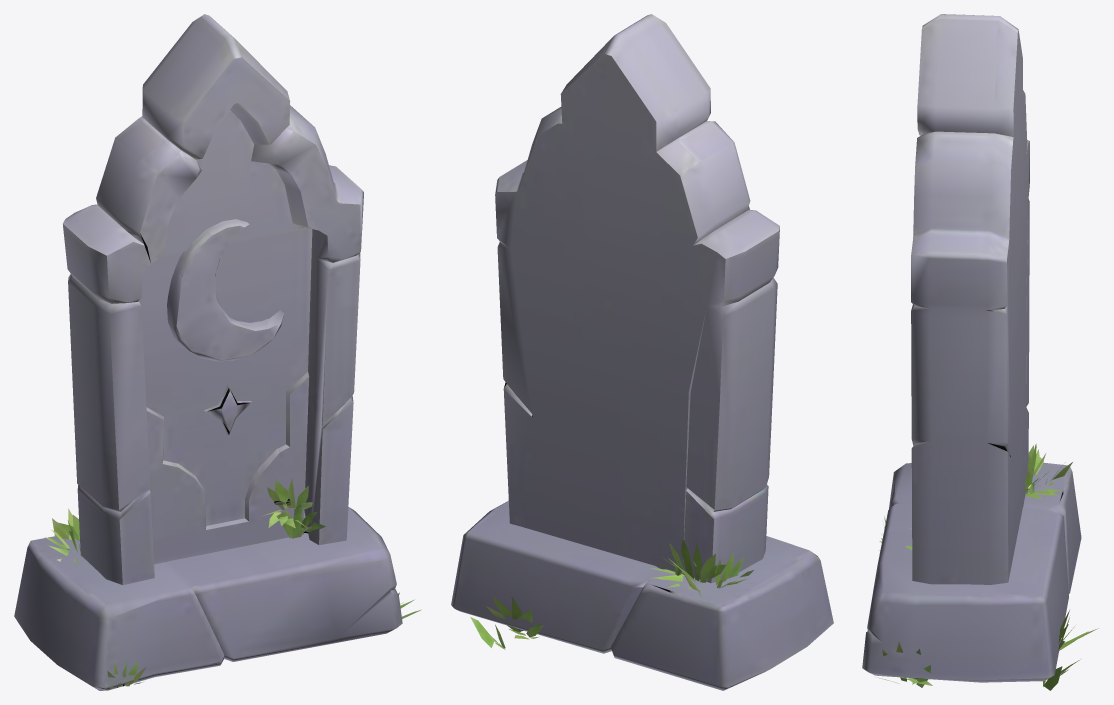
Rendered from kit-gravestone.lod.glb.
The picture shows the model from 3 angles, left to right: view 1: azimuth 30°, elevation 25°; view 2: azimuth 150°, elevation 25°; view 3: azimuth 270°, elevation 25°; orthographic projection.
Parts seen in each view (by area): view 1: WBA_Gravestone_Set_01_WBA_MAT_Halloween_Atlas_0.001; view 2: WBA_Gravestone_Set_01_WBA_MAT_Halloween_Atlas_0.001; view 3: WBA_Gravestone_Set_01_WBA_MAT_Halloween_Atlas_0.001.
Part boxes in pixels (left/top/right/bottom): WBA_Gravestone_Set_01_WBA_MAT_Halloween_Atlas_0.001: left=14, top=14, right=421, bottom=690; WBA_Gravestone_Set_01_WBA_MAT_Halloween_Atlas_0.001: left=451, top=14, right=833, bottom=690; WBA_Gravestone_Set_01_WBA_MAT_Halloween_Atlas_0.001: left=862, top=14, right=1098, bottom=690.
Bounding box in the file's own units: 0.4688 × 0.8606 × 0.2962.
1 material, 1 textured.
